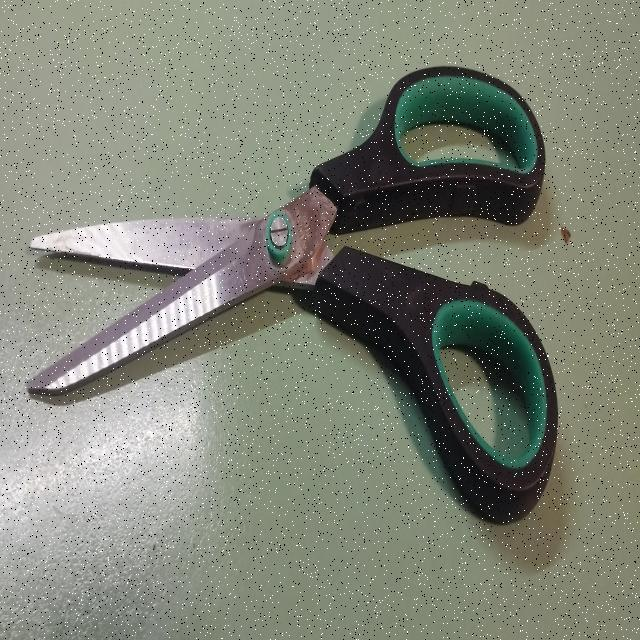scissors: (20, 52, 563, 534)
